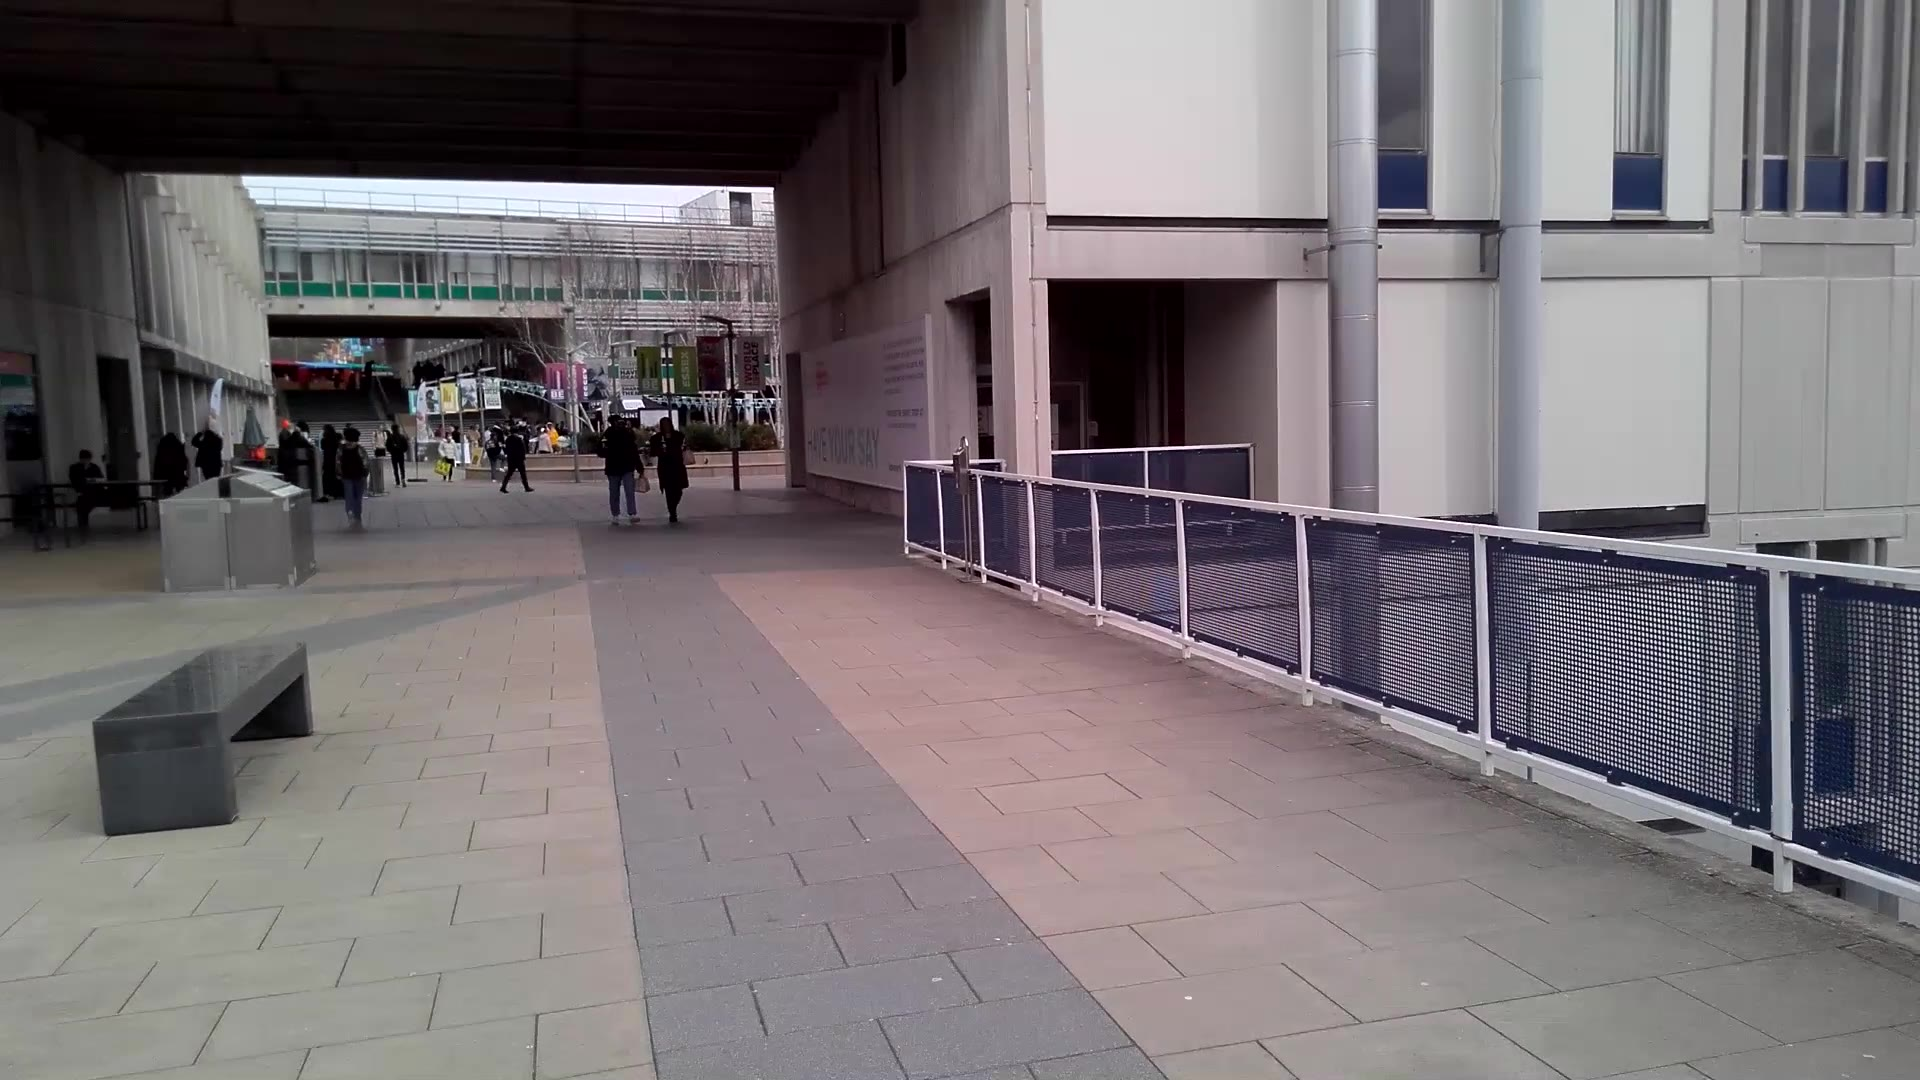Bench: (100, 639, 312, 833)
Bin: (153, 477, 314, 591)
Person: (597, 411, 645, 530), (652, 413, 693, 530), (336, 426, 368, 530)
